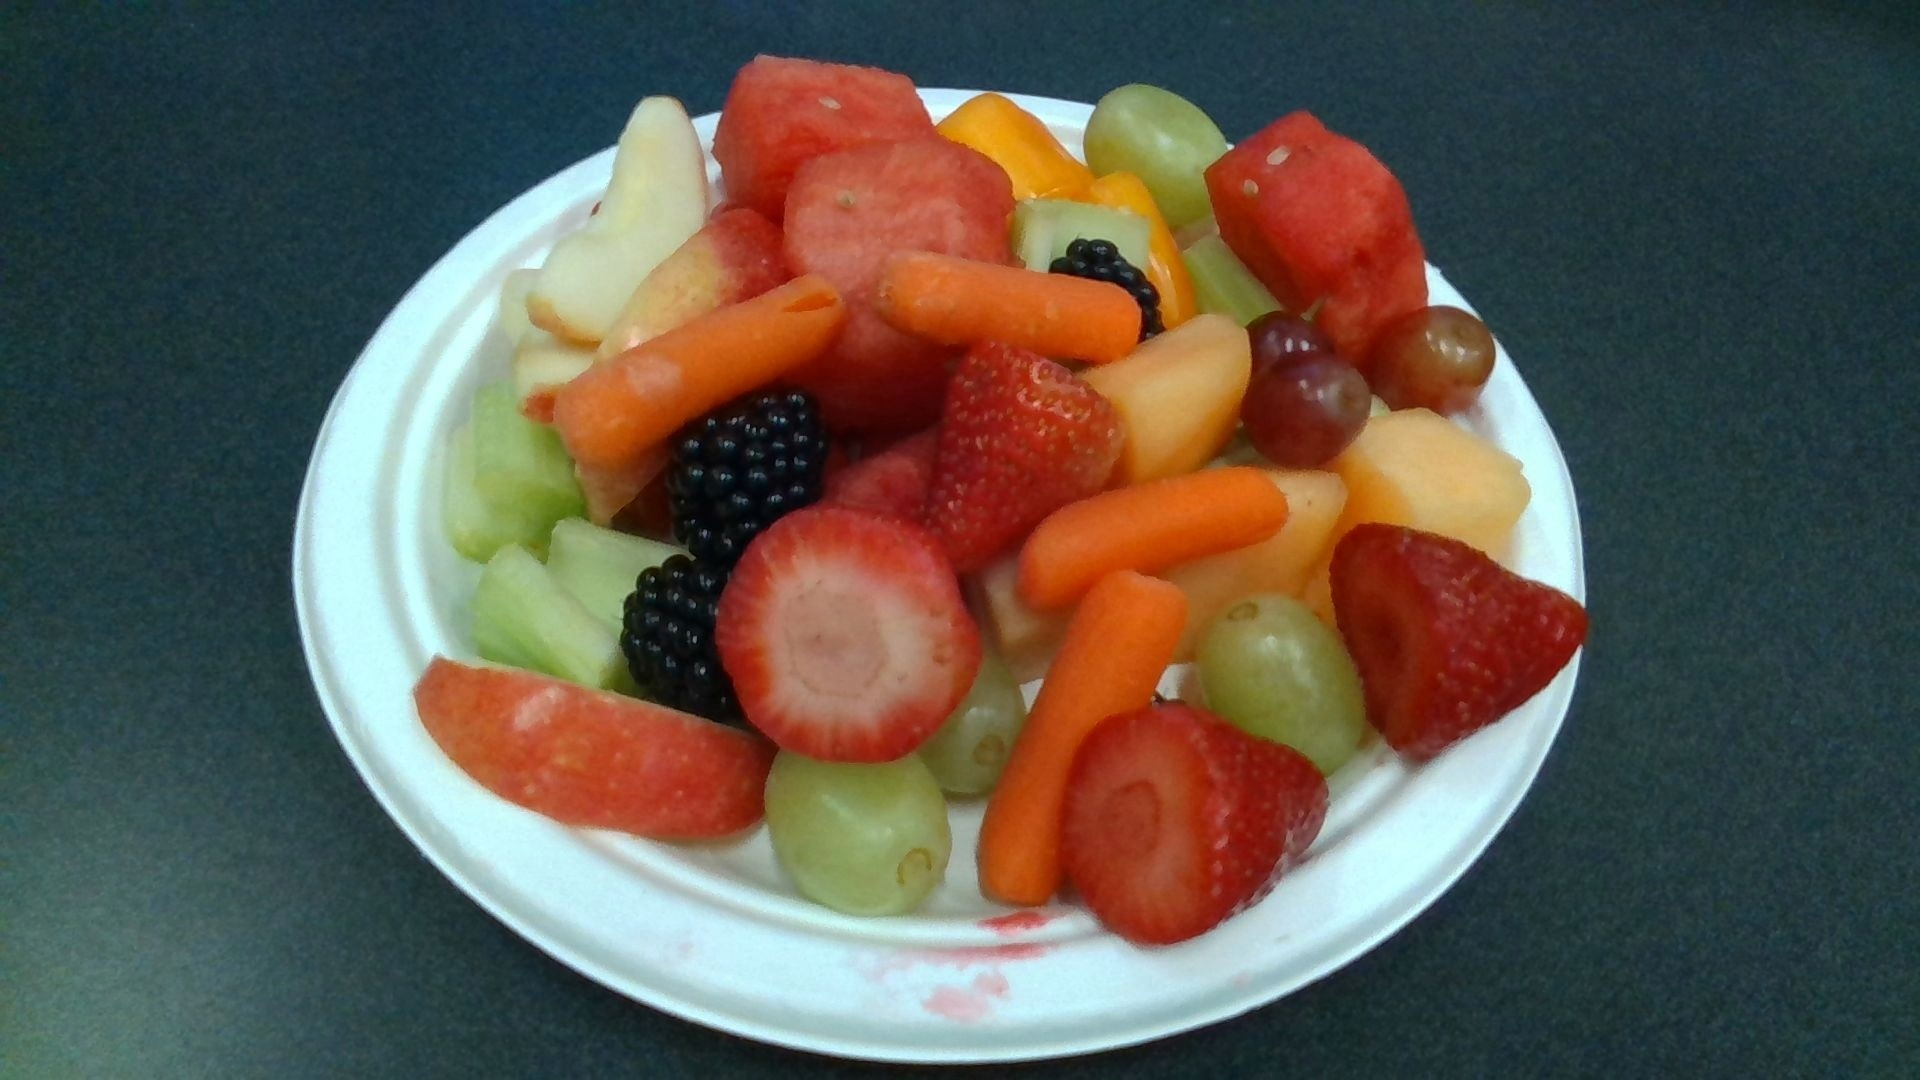apple: (414, 646, 775, 837), (529, 95, 709, 343), (587, 208, 793, 368)
blackberry: (676, 388, 824, 560)
cantalope: (1167, 471, 1342, 663), (1069, 316, 1250, 477), (1335, 407, 1524, 555)
carrot: (977, 574, 1182, 905), (555, 276, 843, 465), (1017, 469, 1290, 613), (880, 248, 1139, 357)
celery: (480, 518, 698, 684), (444, 388, 585, 563)
grape_green: (760, 750, 952, 915), (1200, 597, 1364, 766), (1084, 83, 1226, 237)
grape_purple: (1242, 355, 1367, 465), (1367, 310, 1494, 410)
melon: (785, 138, 1015, 421), (1203, 109, 1429, 353), (713, 53, 934, 215)
strawberry: (720, 510, 980, 764), (1064, 708, 1324, 949), (1335, 524, 1585, 758), (924, 343, 1124, 560)
